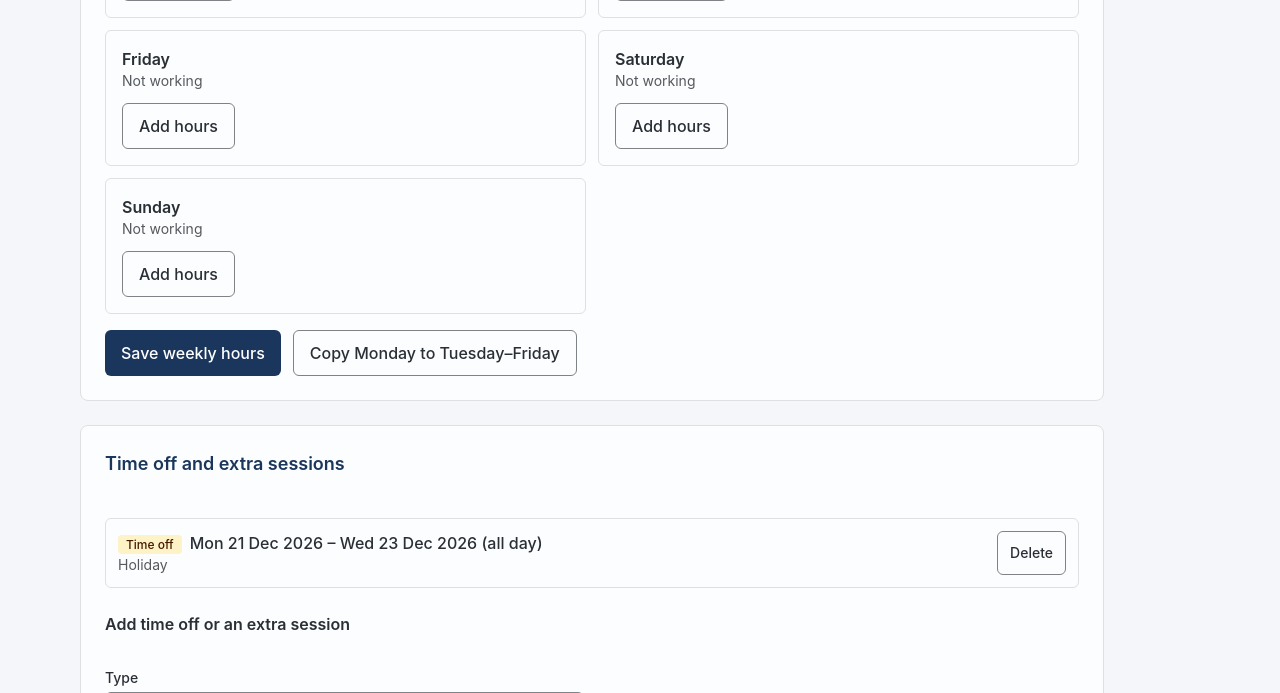
Test: availability page (doctor) › copies Monday's hours to the other weekdays
(page scrolled)
Click the button "Copy Monday to Tuesday–Friday". click: (435, 353)
box: [293,330,577,376]
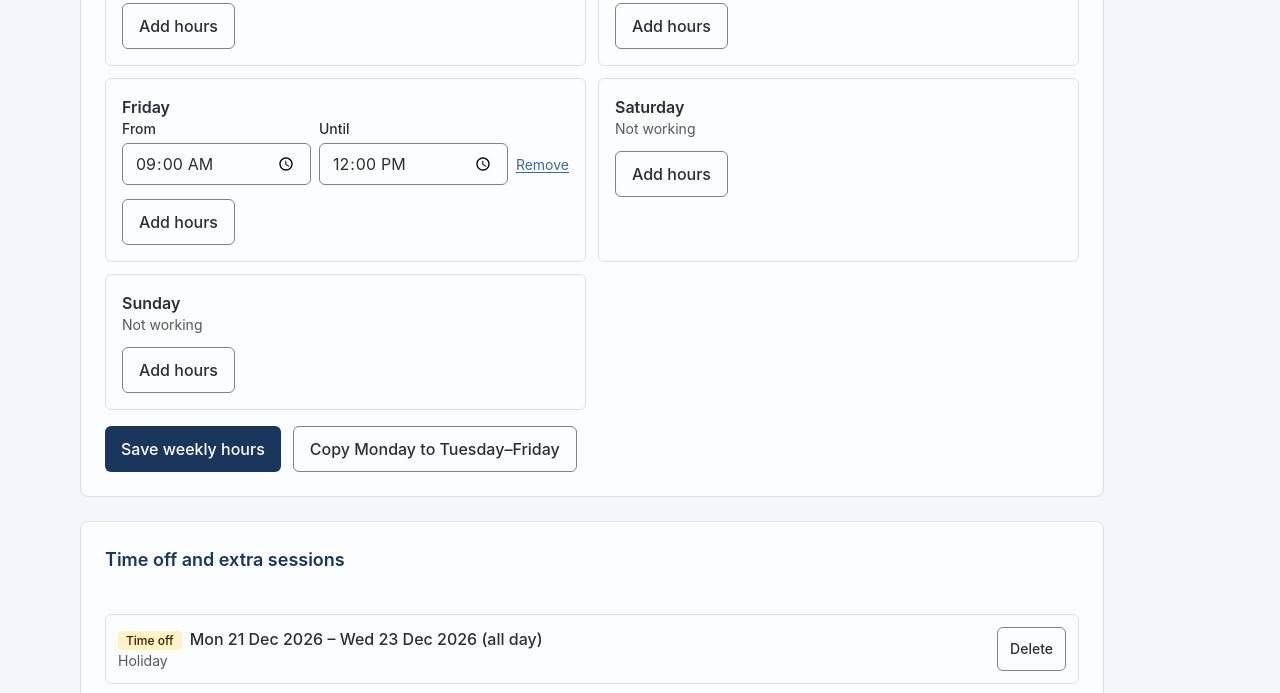
Expected: the text "Not working" below "Saturday" is shown, [615,120,696,137]
Expected: the time field named "Friday hours 1 until" holds "12:00", [319,143,508,185]
Click the button "Save weekly hours". click: (193, 449)
box: [105,426,281,472]
(page scrolled)
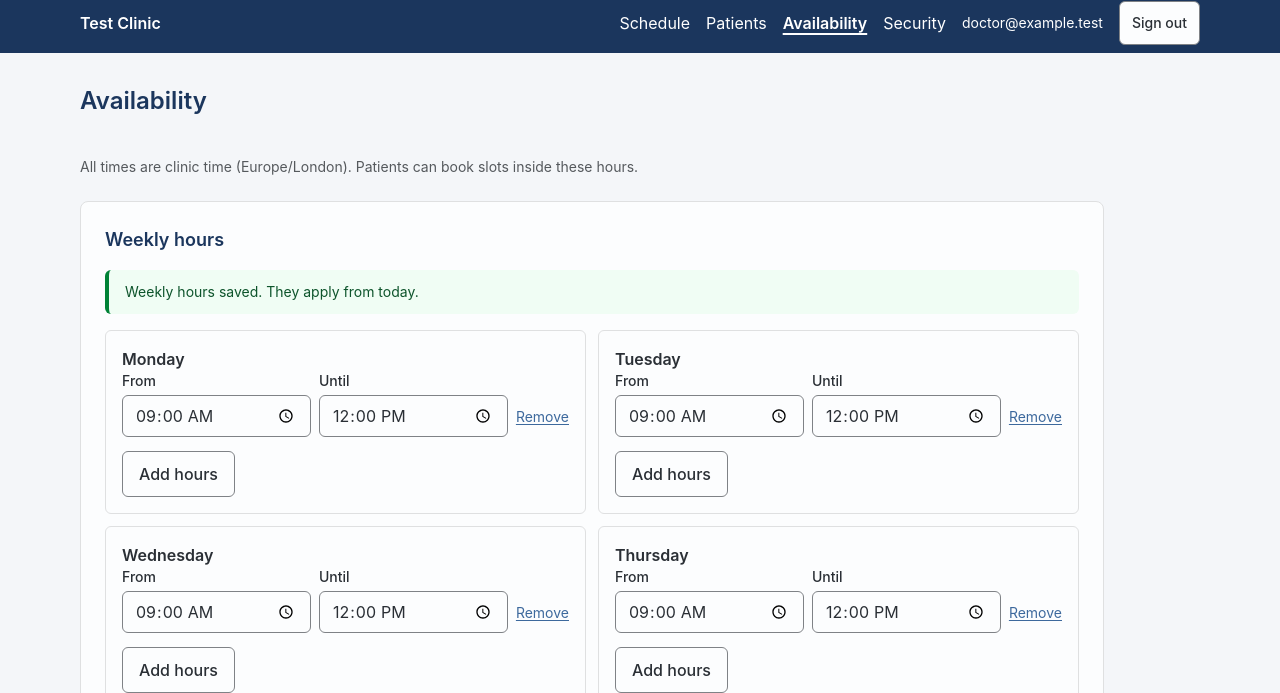
Expected: the text "Weekly hours saved. They apply from today." is shown, [125,283,419,300]
